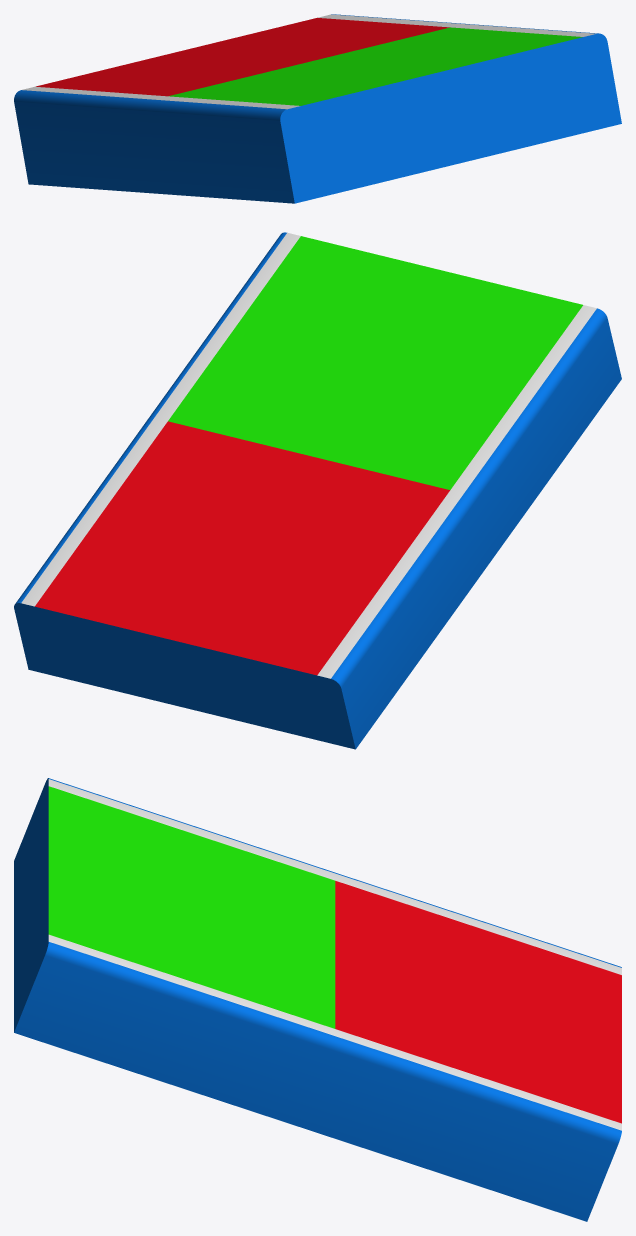
The model's file is DarYol_Duz_Asagi.fbx.
The picture shows the model from 3 angles, top to bottom: view 1: azimuth 30°, elevation 25°; view 2: azimuth 150°, elevation 25°; view 3: azimuth 270°, elevation 25°; orthographic projection. The views are drawn at different scales.
Parts seen in each view (by area): view 1: DarYol_Duz_Asagi; view 2: DarYol_Duz_Asagi; view 3: DarYol_Duz_Asagi.
Boxes of the visible parts, <box> form: DarYol_Duz_Asagi: <box>14,14,621,203</box>; DarYol_Duz_Asagi: <box>14,232,621,749</box>; DarYol_Duz_Asagi: <box>14,778,621,1221</box>.
Bounding box in the file's own units: 600 × 449 × 897.
